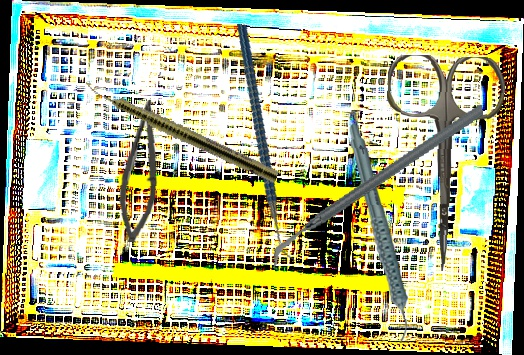Chopper: (250, 102, 505, 270), (201, 23, 334, 262)
Handpiece: (80, 78, 281, 185), (348, 123, 409, 344)
Iris Scissors: (381, 54, 506, 273)
Micro Scissor: (115, 98, 164, 244)
